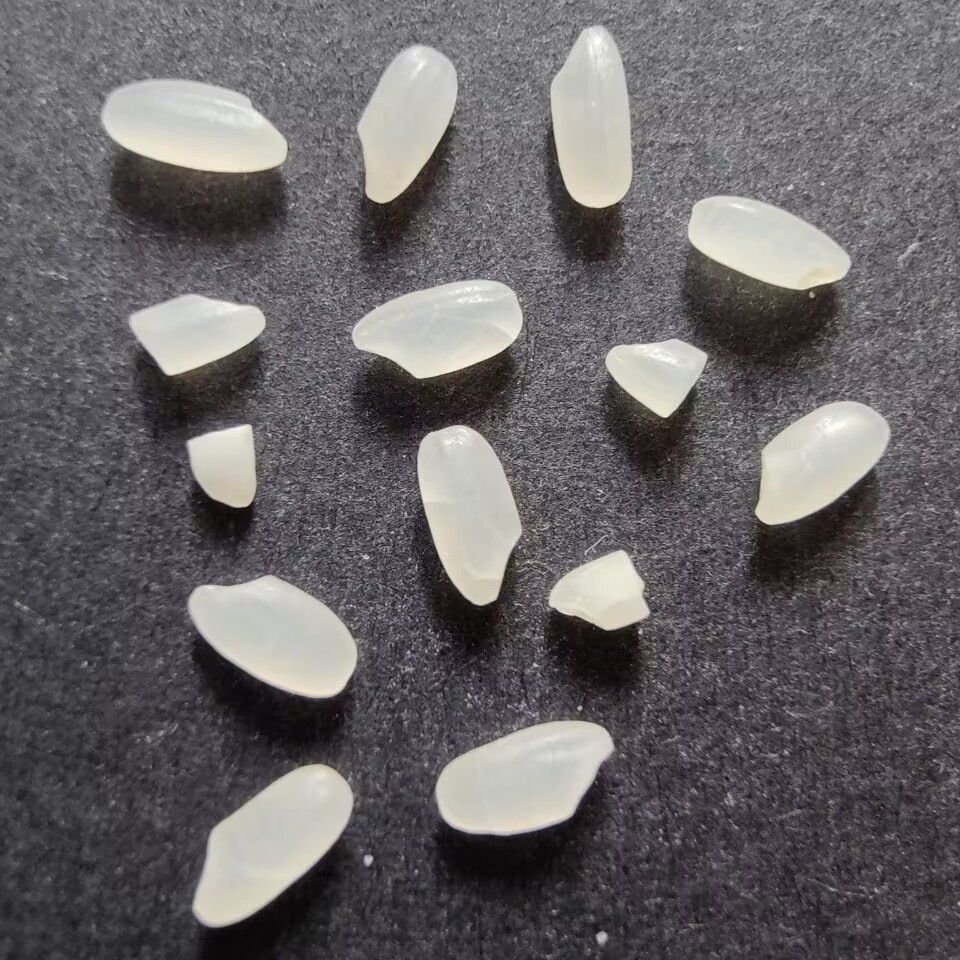broken: (125, 290, 265, 379), (540, 546, 650, 636), (600, 336, 709, 425), (183, 422, 260, 516)
rice: (187, 764, 358, 935), (182, 573, 362, 704), (432, 719, 619, 838), (411, 420, 527, 609), (92, 76, 293, 175), (340, 274, 522, 382), (749, 399, 897, 529), (683, 189, 857, 294), (351, 41, 461, 203), (545, 23, 638, 214)
